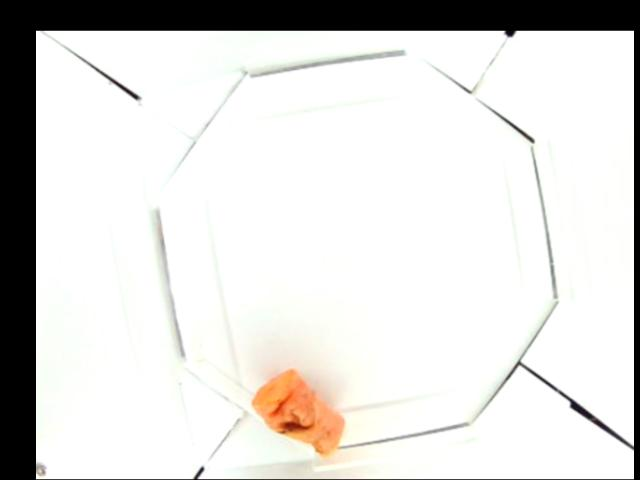Carrot: (250, 369, 343, 455)
